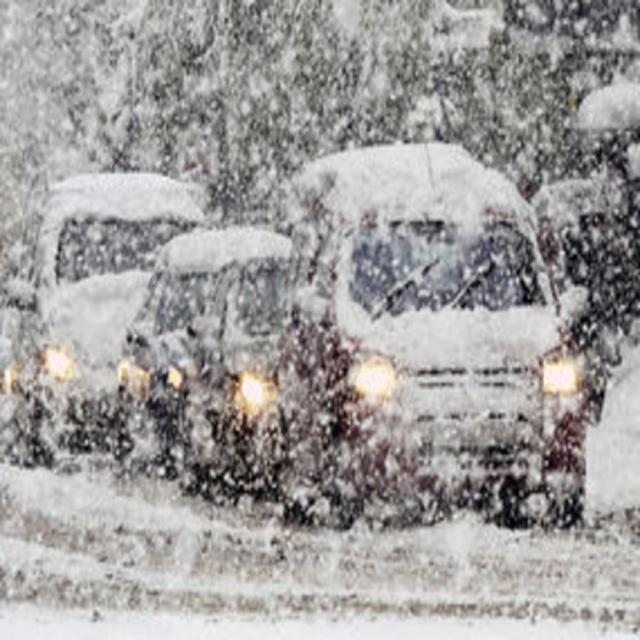car: (293, 164, 579, 532), (26, 187, 190, 446), (199, 270, 291, 510), (126, 250, 192, 484)
